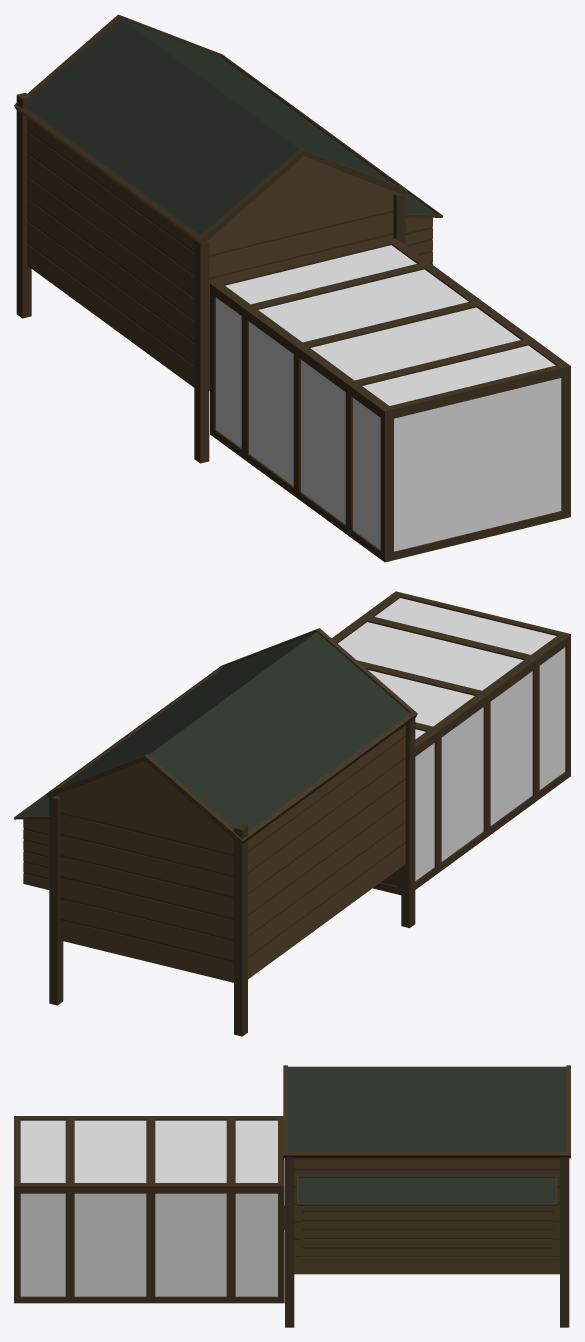
Rendered from ChickenCoop_1.fbx.
3 views of the same model, one above another, from view 1: azimuth 30°, elevation 25°; view 2: azimuth 150°, elevation 25°; view 3: azimuth 270°, elevation 25° (orthographic). The views are drawn at different scales.
Parts seen in each view (by area): view 1: ChickenCoop_1; view 2: ChickenCoop_1; view 3: ChickenCoop_1.
Boxes of the visible parts, x1,y1,x2,y2 form: ChickenCoop_1: (14,14,570,562); ChickenCoop_1: (14,591,570,1036); ChickenCoop_1: (14,1065,570,1327).
Size of the model in its own units: 204 by 223 by 503.
